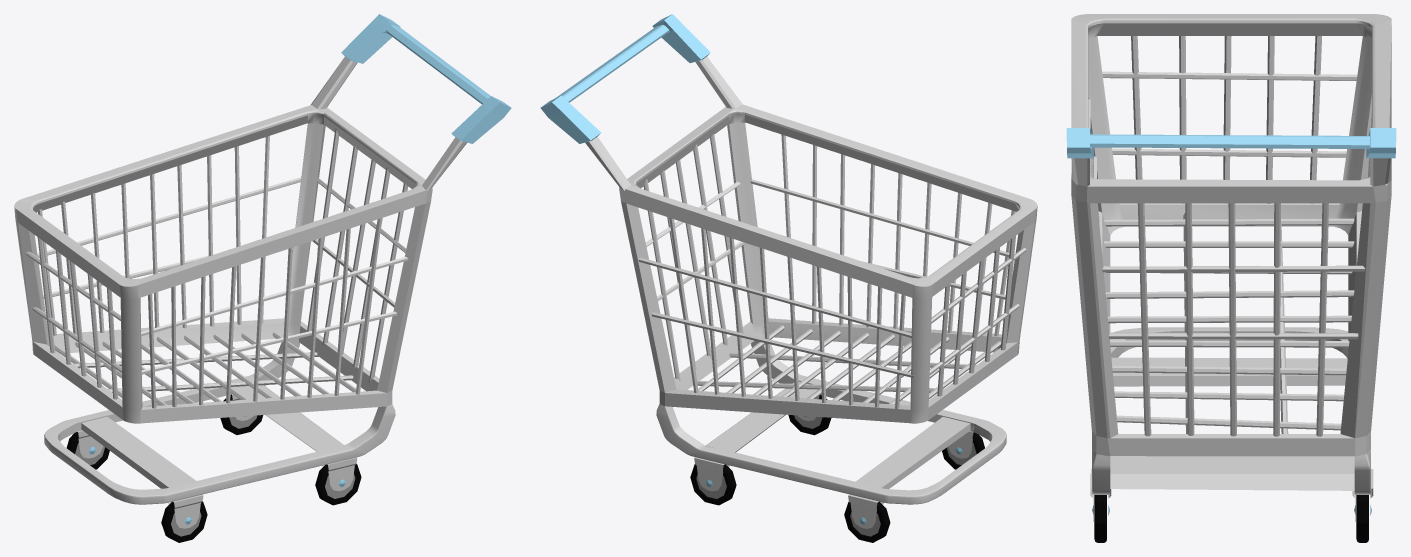
The model's file is sags.glb.
3 views of the same model, side by side, from view 1: azimuth 30°, elevation 25°; view 2: azimuth 150°, elevation 25°; view 3: azimuth 270°, elevation 25° (orthographic). The views are drawn at different scales.
Parts seen in each view (by area): view 1: sags; view 2: sags; view 3: sags.
Part boxes in pixels (box(x1,y1,x2,y2)): sags: box(14, 14, 511, 542); sags: box(540, 14, 1037, 542); sags: box(1066, 14, 1396, 542).
Size of the model in its own units: 2.26 by 2.1 by 1.23.
